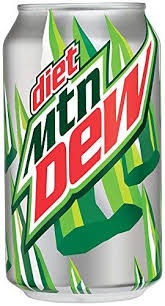can: (4, 1, 162, 303)
